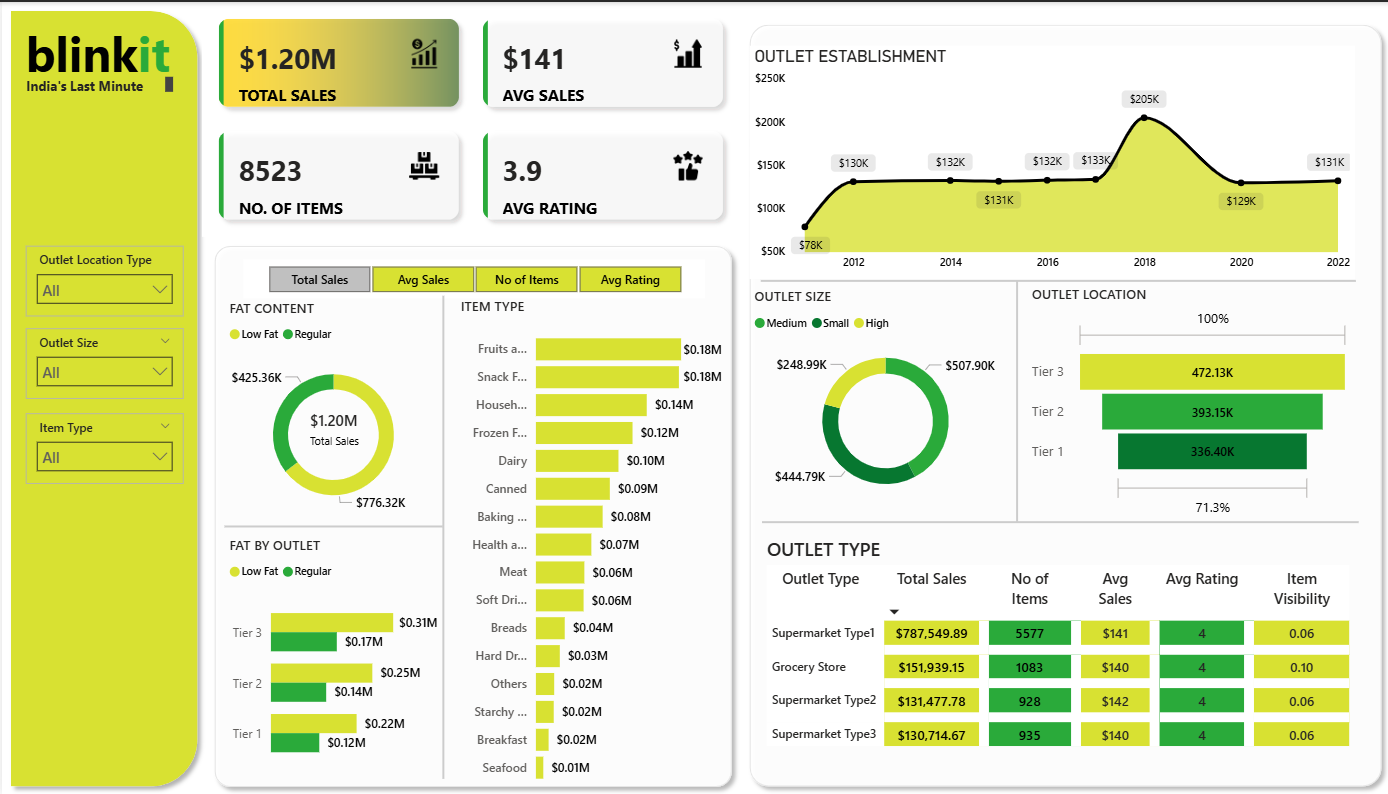

This screenshot's page, from the dashboard's own definition file:
{"tool":"powerbi","page":{"name":"Page 1","canvas":[1400,800],"ordinal":0},"visuals":[{"type":"shape","box":[0,0,206,800],"z":0},{"type":"textbox","box":[19.1,14,187,87.8],"z":1000},{"type":"textbox","box":[19.1,69.9,159,31.8],"z":2000},{"type":"cardVisual","fields":{"Data":["BlinkIT Grocery Data.Total Sales","BlinkIT Grocery Data.Avg Sales","BlinkIT Grocery Data.No of Items","BlinkIT Grocery Data.Avg Rating"]},"box":[202.2,0,543.1,236.6],"z":3000},{"type":"shape","box":[206,236.6,539.2,563.4],"z":4000},{"type":"donutChart","title":"FAT CONTENT","fields":{"Y":["BlinkIT Grocery Data.Total Sales"],"Category":["BlinkIT Grocery Data.Item Fat Content"]},"box":[223.8,298.9,220,230.2],"z":5000},{"type":"slicer","fields":{"Values":["Metrix.Metrix"]},"box":[242.9,259.4,465.5,39.4],"z":6000},{"type":"cardVisual","fields":{"Data":["BlinkIT Grocery Data.Total Sales"]},"box":[293.8,371.4,105.6,117],"z":7000},{"type":"clusteredBarChart","title":"FAT BY OUTLET","fields":{"Y":["BlinkIT Grocery Data.Total Sales"],"Category":["BlinkIT Grocery Data.Outlet Location Type"],"Series":["BlinkIT Grocery Data.Item Fat Content"]},"box":[223.8,538,220,245.5],"z":8000},{"type":"shape","box":[223.8,518.9,220,19.1],"z":9000},{"type":"shape","box":[432.4,296.3,25.4,487.1],"z":10000},{"type":"barChart","title":"ITEM TYPE","fields":{"Y":["BlinkIT Grocery Data.Total Sales"],"Category":["BlinkIT Grocery Data.Item Type"]},"box":[457.9,297.6,273.4,502.4],"z":11000},{"type":"shape","box":[745.3,14,655,786],"z":12000},{"type":"lineChart","title":"OUTLET ESTABLISHMENT","fields":{"Y":["BlinkIT Grocery Data.Total Sales"],"Category":["BlinkIT Grocery Data.Outlet Establishment Year"]},"box":[754.2,44.5,610.5,235.3],"z":13000},{"type":"shape","box":[764.4,265.8,600.3,30.5],"z":14000},{"type":"donutChart","title":"OUTLET SIZE","fields":{"Y":["BlinkIT Grocery Data.Total Sales"],"Category":["BlinkIT Grocery Data.Outlet Size"]},"box":[754.2,287.4,274.7,225.1],"z":15000},{"type":"shape","box":[1013.6,281.1,20.3,242.9],"z":16000},{"type":"funnel","title":"OUTLET LOCATION","fields":{"Y":["Sum(BlinkIT Grocery Data.Sales)"],"Category":["BlinkIT Grocery Data.Outlet Location Type"]},"box":[1034,284.9,330.7,239.1],"z":17000},{"type":"shape","box":[765.6,507.5,601.6,33.1],"z":18000},{"type":"pivotTable","title":"OUTLET TYPE","fields":{"Rows":["BlinkIT Grocery Data.Outlet Type"],"Values":["BlinkIT Grocery Data.Total Sales","BlinkIT Grocery Data.No of Items","BlinkIT Grocery Data.Avg Sales","BlinkIT Grocery Data.Avg Rating","Avg(BlinkIT Grocery Data.Item Visibility)"]},"box":[765.6,538,600.3,254.4],"z":19000},{"type":"slicer","fields":{"Values":["BlinkIT Grocery Data.Outlet Location Type"]},"box":[24.2,245.5,159,71.2],"z":20000},{"type":"slicer","fields":{"Values":["BlinkIT Grocery Data.Outlet Size"]},"box":[24.2,329.4,159,71.2],"z":21000},{"type":"slicer","fields":{"Values":["BlinkIT Grocery Data.Item Type"]},"box":[24.2,414.6,159,71.2],"z":22000}]}

Visuals, with their boxes in screenshot pixels (x1, y1, x2, y2), scaled from the page's 1400x800 canvas onto the 1388x794 screenshot:
shape: [0, 0, 204, 793]
textbox: [19, 14, 204, 101]
textbox: [19, 69, 177, 101]
cardVisual - BlinkIT Grocery Data.Total Sales x BlinkIT Grocery Data.Avg Sales: [200, 0, 739, 235]
shape: [204, 235, 739, 793]
"FAT CONTENT" donutChart: [222, 297, 440, 525]
slicer - Metrix.Metrix: [241, 257, 702, 297]
cardVisual - BlinkIT Grocery Data.Total Sales: [291, 369, 396, 485]
"FAT BY OUTLET" clusteredBarChart: [222, 534, 440, 778]
shape: [222, 515, 440, 534]
shape: [429, 294, 454, 778]
"ITEM TYPE" barChart: [454, 295, 725, 793]
shape: [739, 14, 1387, 793]
"OUTLET ESTABLISHMENT" lineChart: [748, 44, 1353, 278]
shape: [758, 264, 1353, 294]
"OUTLET SIZE" donutChart: [748, 285, 1020, 509]
shape: [1005, 279, 1025, 520]
"OUTLET LOCATION" funnel: [1025, 283, 1353, 520]
shape: [759, 504, 1355, 537]
"OUTLET TYPE" pivotTable: [759, 534, 1354, 786]
slicer - BlinkIT Grocery Data.Outlet Location Type: [24, 244, 182, 314]
slicer - BlinkIT Grocery Data.Outlet Size: [24, 327, 182, 398]
slicer - BlinkIT Grocery Data.Item Type: [24, 411, 182, 482]
